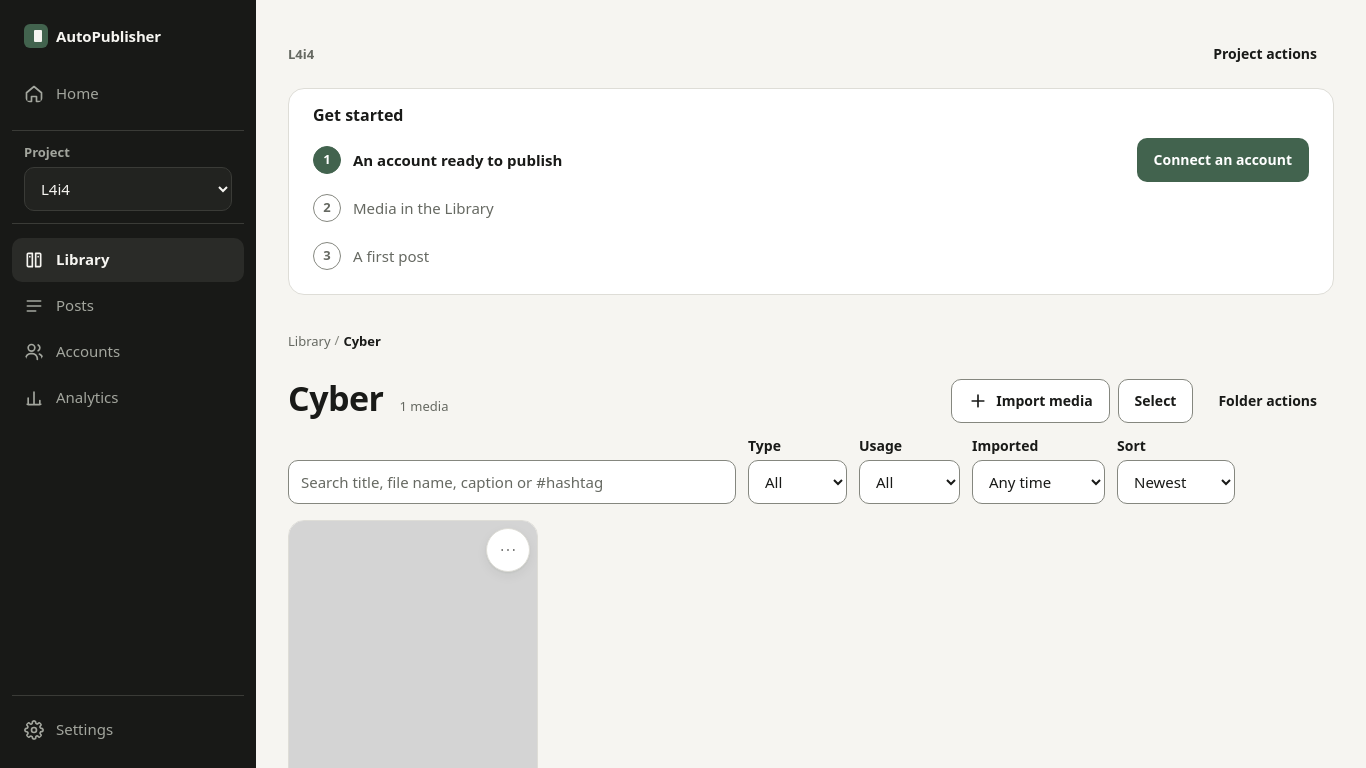
Scenario: Delete media › the card's Media actions offer Move and Delete media, tap to open
The width and height of the screenshot is (1366, 768).
Check: the heading "Cyber" is shown, box [288,379,384,418]
Click the button named "Media actions: Clip". click: {"x": 508, "y": 550}
box: [486,528,530,572]
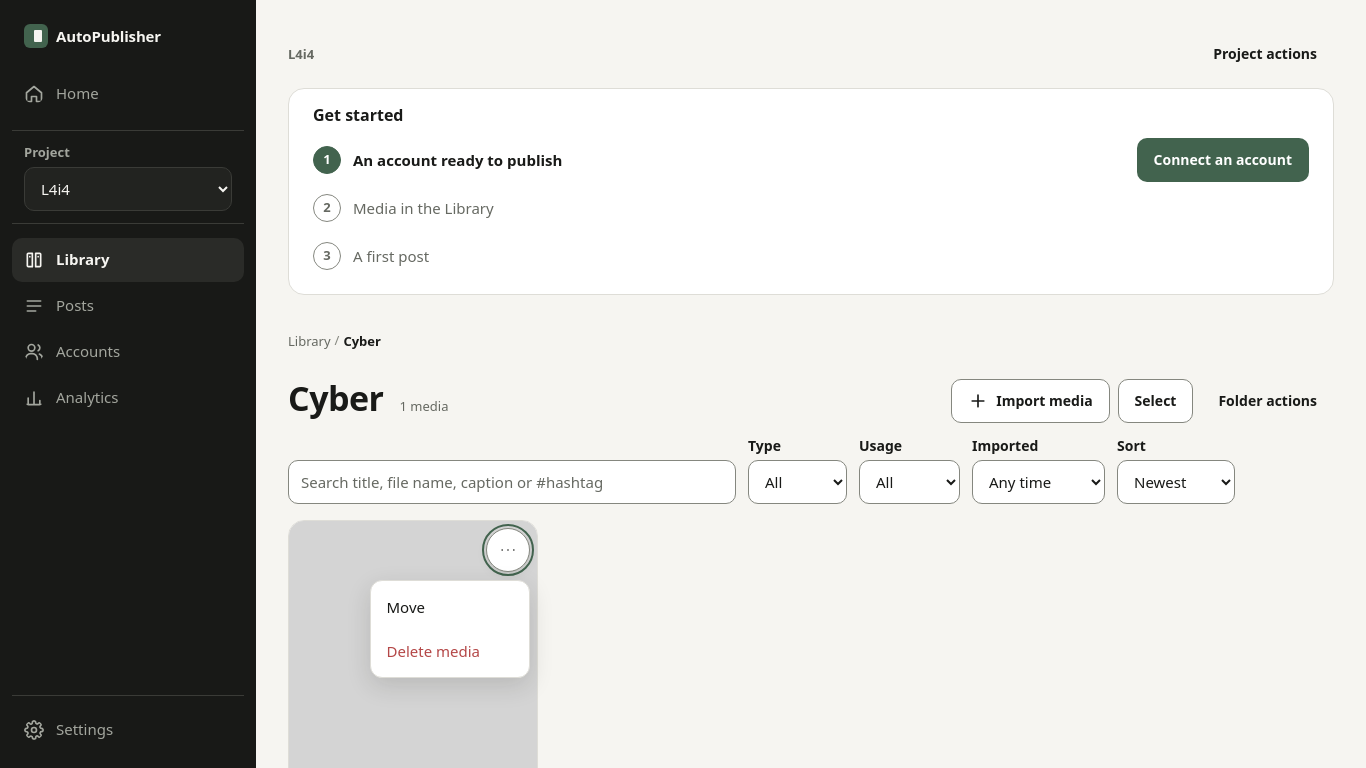
Check: the buttons read "Media actions: Clip", "Move", "Delete media", in this order
Move from the card: the media leaves this folder.
Click the button "Move". click: {"x": 450, "y": 607}
box: [374,585,524,629]
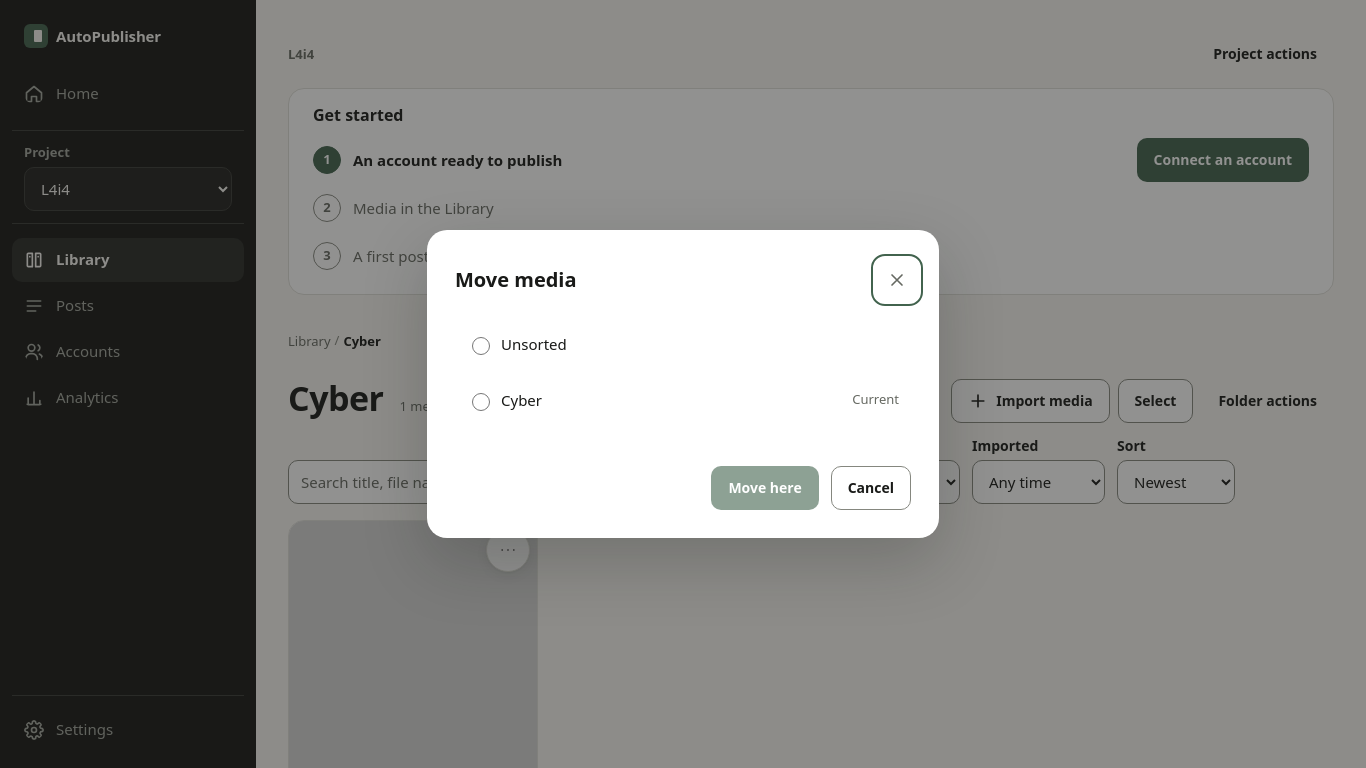
Click the radio button labelled "Unsorted". click: {"x": 481, "y": 346}
box: [472,336,490,354]
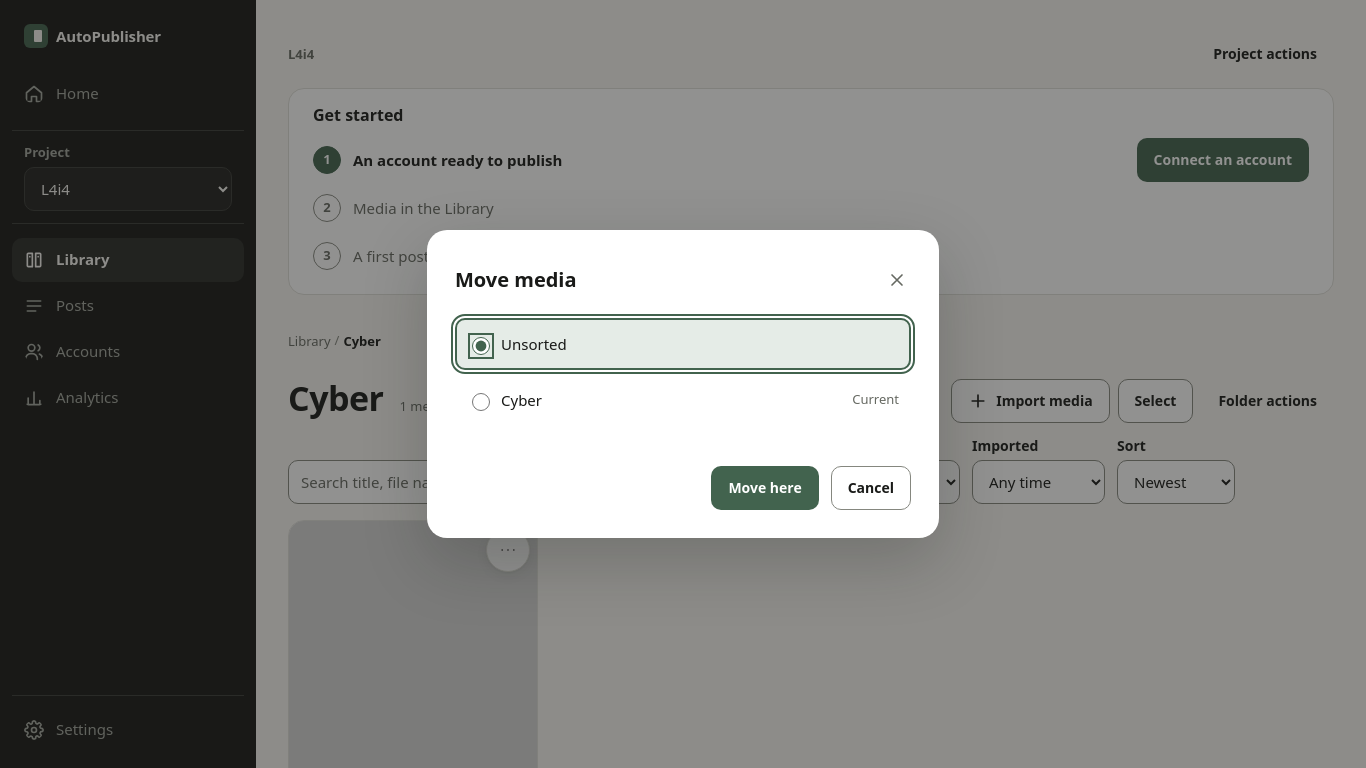
Click the button "Move here". click: {"x": 765, "y": 488}
box: [711,466,819,510]
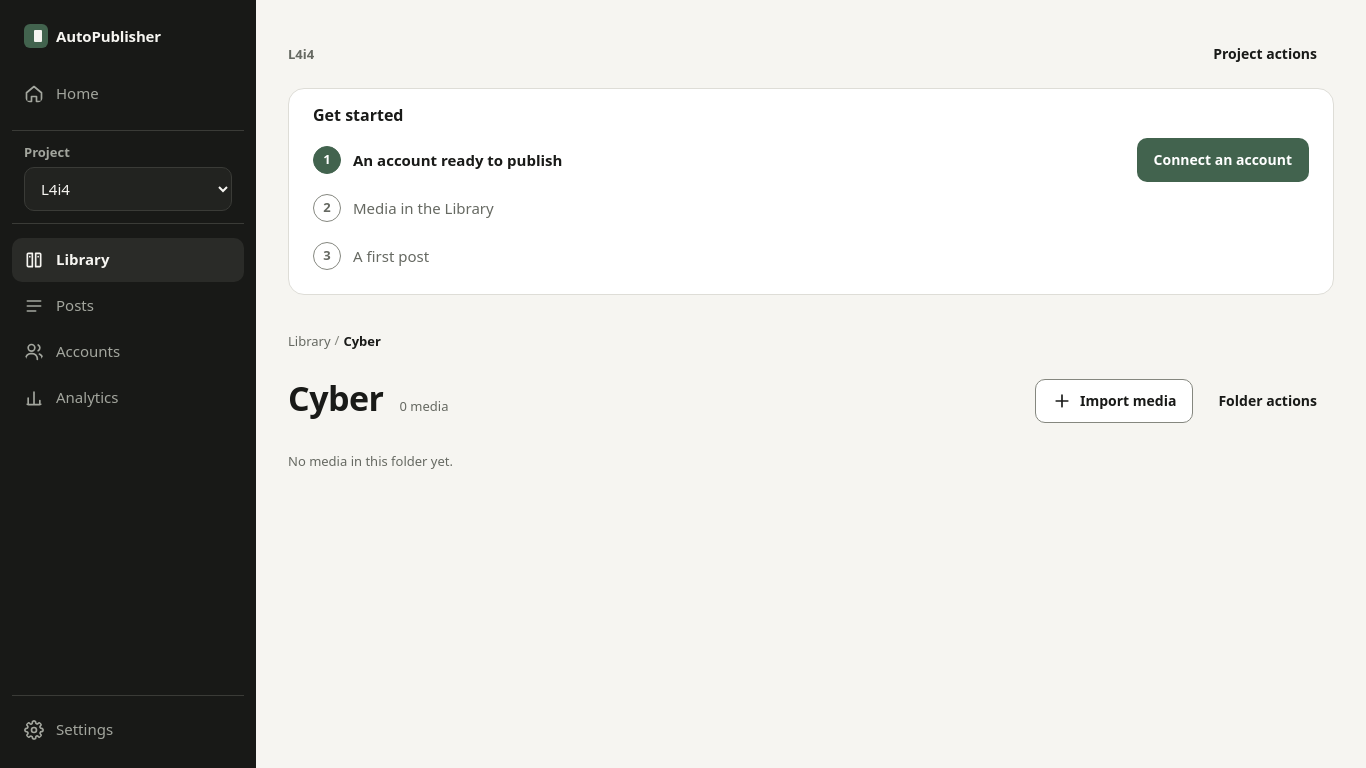
Check: the text "No media in this folder yet." is shown, box [288,452,453,470]
